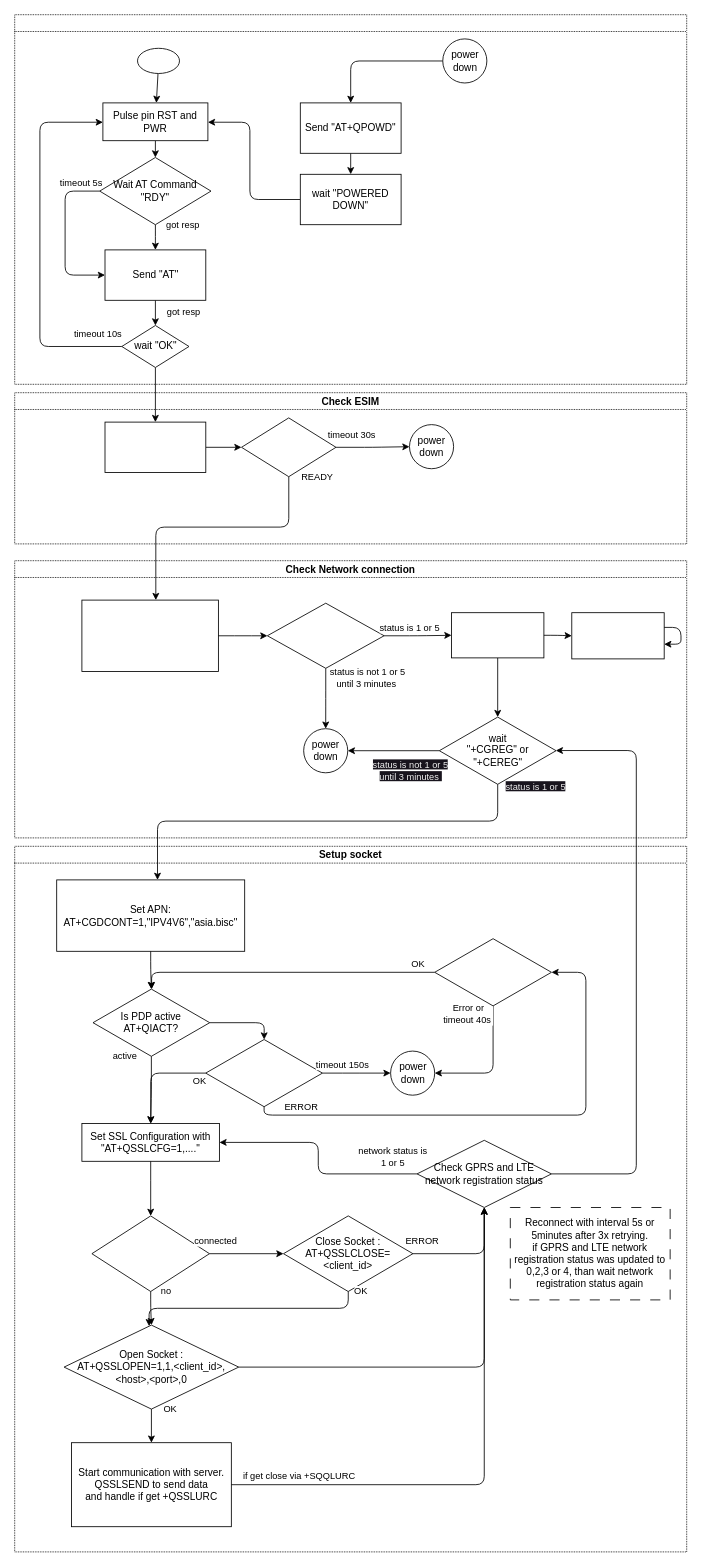
This 703x1567 diagram has some shape labels left out. The box of each missing label's shape, as (x1, y1, x2, y2) in pixels:
Activating PDP AT+QIACT=1: (205, 1039, 322, 1107)
Chech whether <client_id> is open: (91, 1215, 209, 1292)
Deactivating PDP AT+QIDEACT=1: (434, 938, 551, 1006)
Enable registraion network status URC: AT+CREG=1 AT+CGREG=1 AT+CEREG=1: (81, 599, 218, 671)
Get operator: (451, 612, 544, 658)
Loop to get Signal: (571, 612, 664, 659)
Send "AT+CPIN?": (104, 421, 206, 472)
Setup Module: (14, 14, 687, 384)
Start: (137, 47, 180, 74)
wait "+CPIN: READY": (241, 417, 336, 477)
wait "+CREG",: (267, 602, 384, 668)
